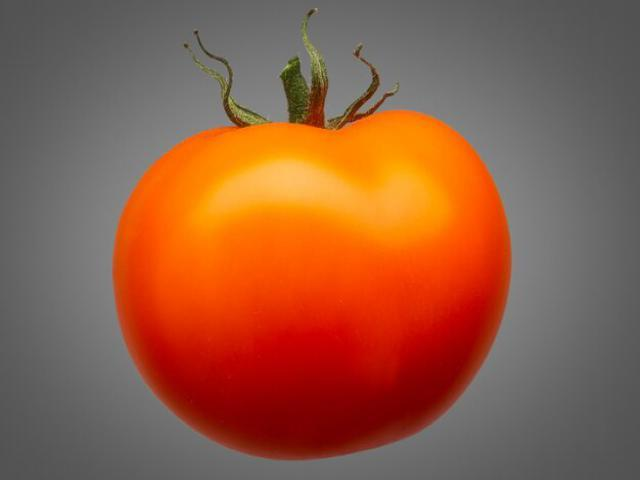tomato: (88, 74, 516, 470)
